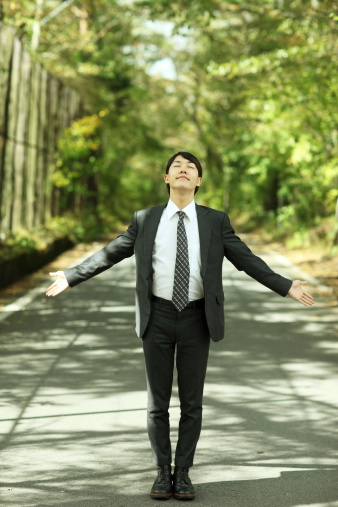em pe: (86, 144, 304, 485)
